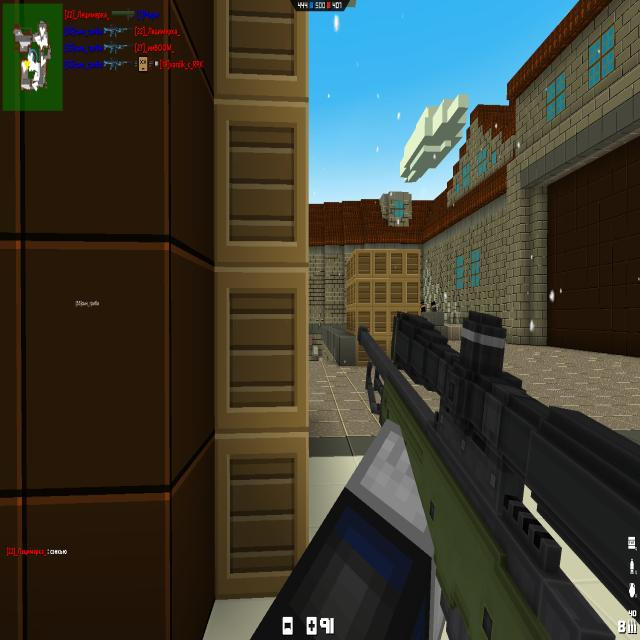player: (420, 301, 426, 313), (431, 301, 437, 312)
